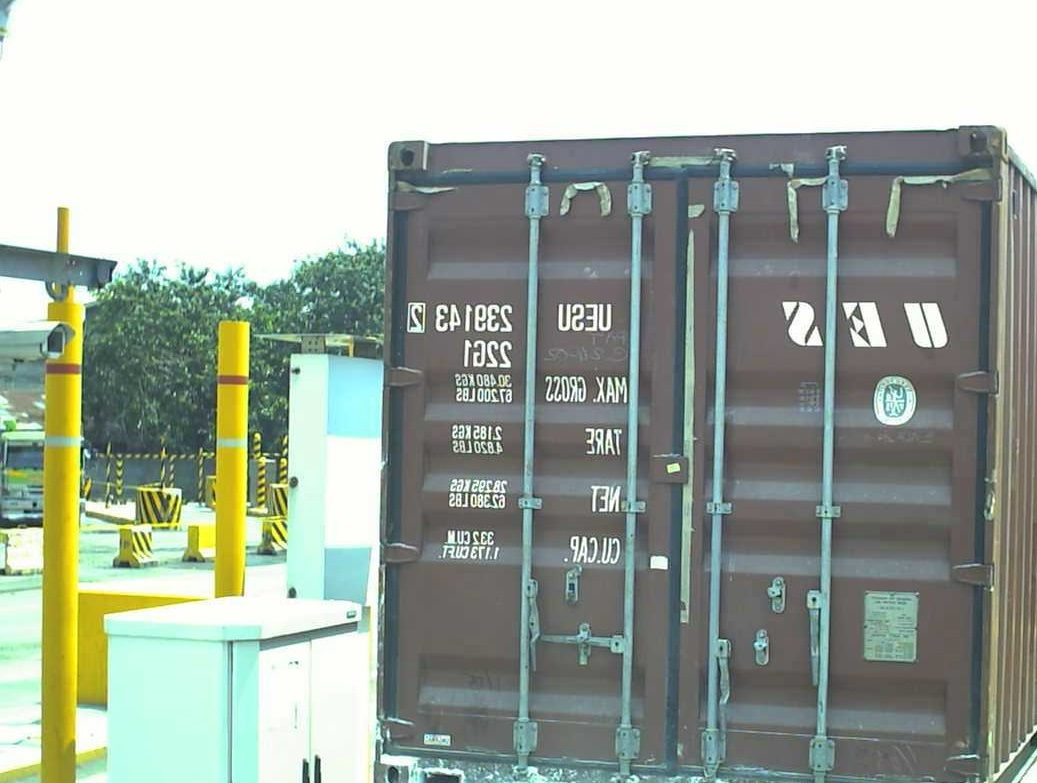container_door: (388, 120, 998, 782)
